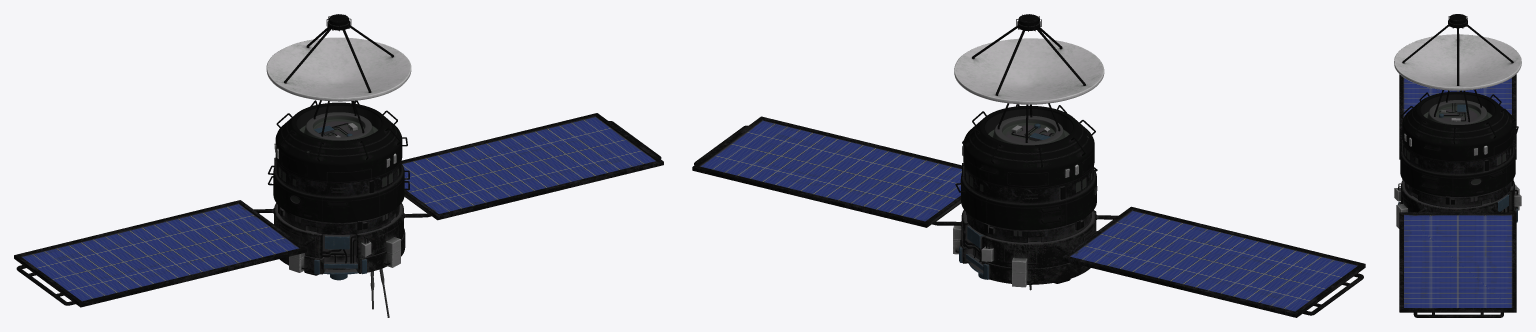
File: satellite_thing.glb
3 renders of one model, left to right at view 1: azimuth 30°, elevation 25°; view 2: azimuth 150°, elevation 25°; view 3: azimuth 270°, elevation 25°, orthographic. The views are drawn at different scales.
Visible parts, largest first — view 1: node_id30; view 2: node_id30; view 3: node_id30.
Boxes of the visible parts, x1,y1,x2,y2 form: node_id30: [14, 14, 663, 317]; node_id30: [692, 14, 1365, 317]; node_id30: [1394, 14, 1521, 317].
Bounding box in the file's own units: 0.00512 × 0.00235 × 0.00108.
Materials: 1 (1 with a texture image).
